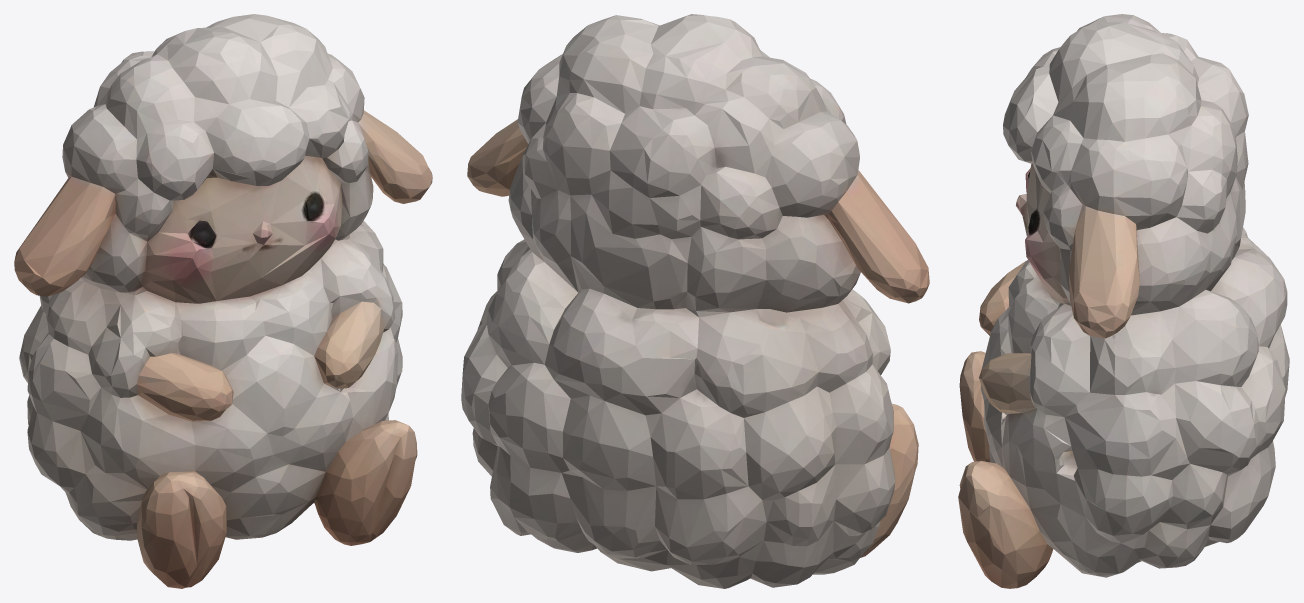
Rendered from sheep_sit.glb.
3 views of the same model, side by side, from view 1: azimuth 30°, elevation 25°; view 2: azimuth 150°, elevation 25°; view 3: azimuth 270°, elevation 25° (orthographic). The views are drawn at different scales.
Parts seen in each view (by area): view 1: geometry_0; view 2: geometry_0; view 3: geometry_0.
Part boxes in pixels (box(x1,y1,x2,y2)): geometry_0: box(14, 14, 432, 588); geometry_0: box(461, 14, 929, 588); geometry_0: box(958, 14, 1289, 588).
Bounding box in the file's own units: 0.8611 × 1 × 0.5866.
1 material, 1 textured.
